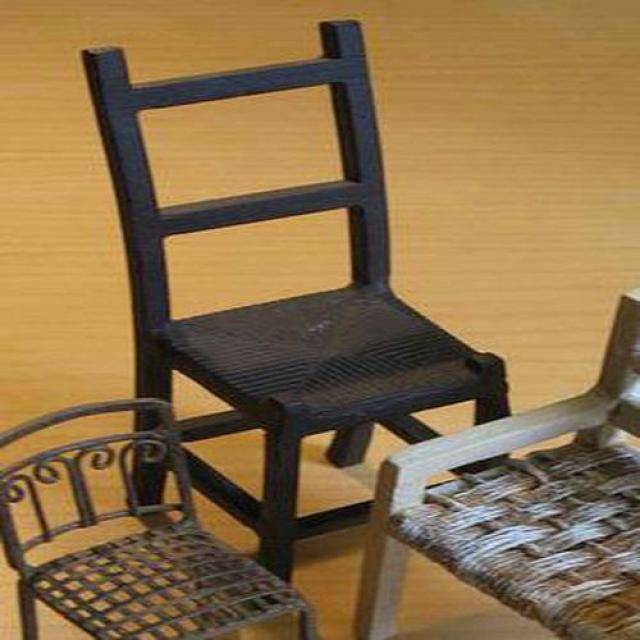chair: (79, 20, 515, 588)
